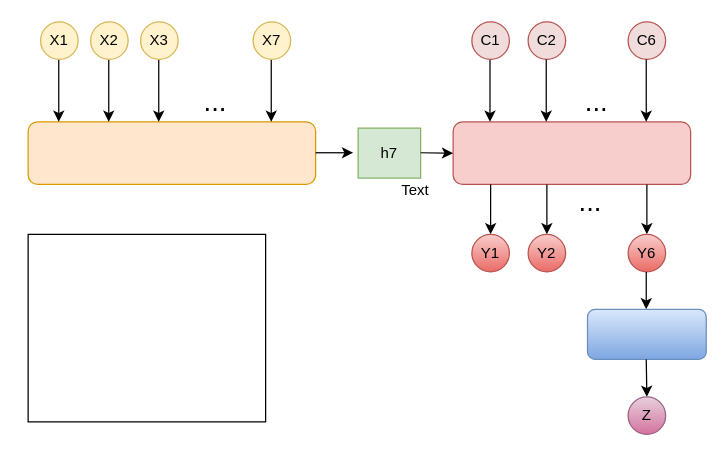
The diagram is 728 pixels wide and 456 high, and some of its shapes have lost their labels. Each missing label, with the centre of its shape:
decoder: the point at 571,152
encoder: the point at 171,152
MLP: the point at 646,333
X :: the point at 146,327
